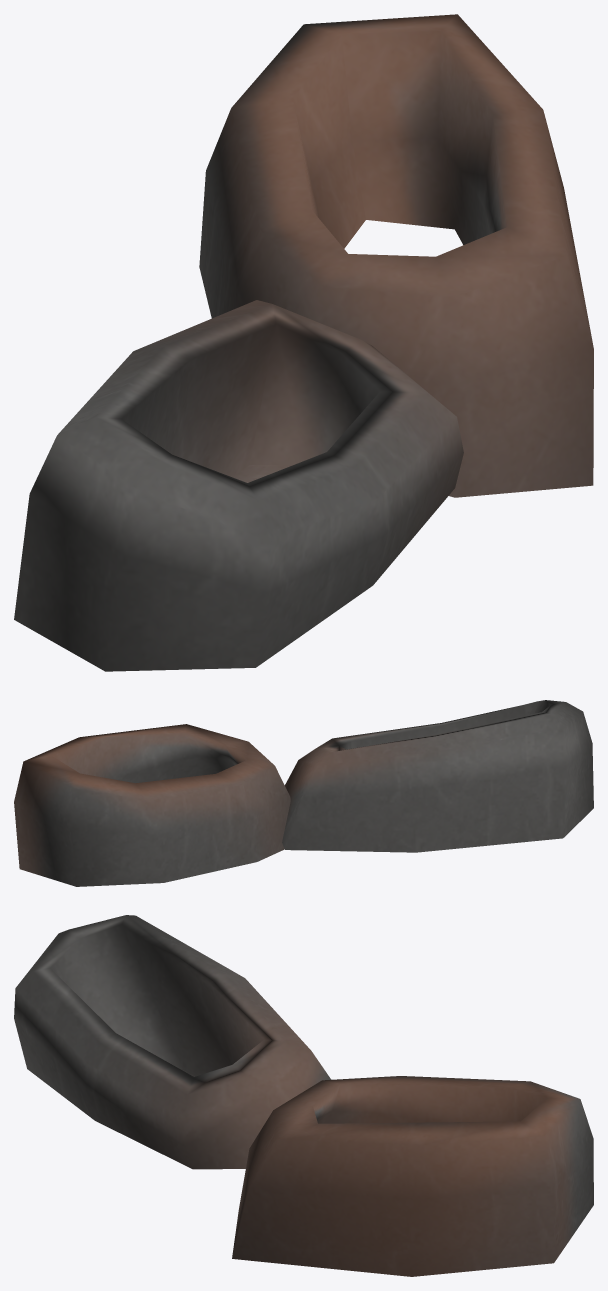
3 renders of one model, top to bottom at view 1: azimuth 30°, elevation 25°; view 2: azimuth 150°, elevation 25°; view 3: azimuth 270°, elevation 25°, orthographic. The views are drawn at different scales.
Parts seen in each view (by area): view 1: example.glb; view 2: example.glb; view 3: example.glb.
Boxes of the visible parts, x1,y1,x2,y2 form: example.glb: (14,14,593,671); example.glb: (14,700,593,886); example.glb: (14,915,593,1276).
Bounding box in the file's own units: 0.2703 × 0.0923 × 0.288.
1 material, 1 textured.
